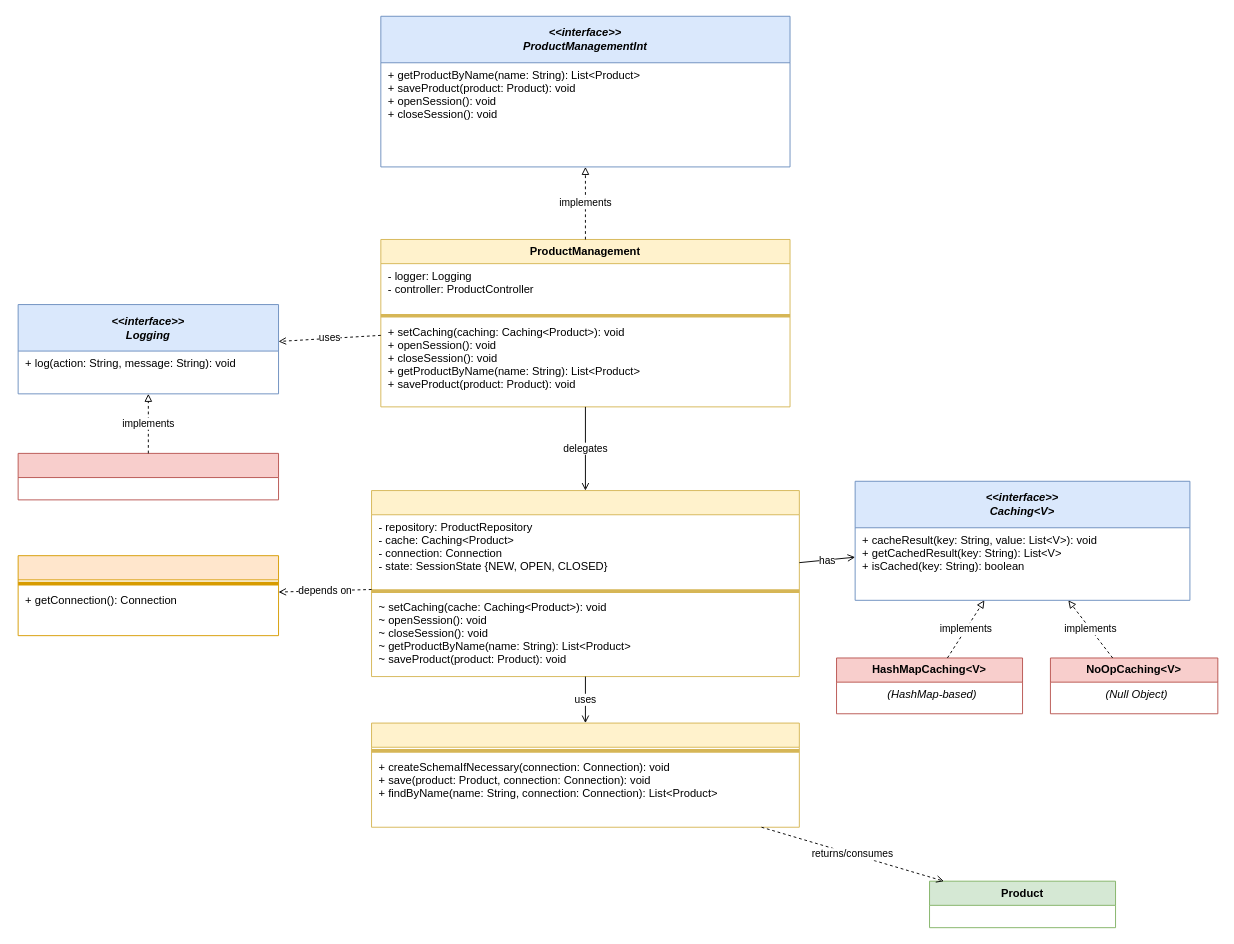
Some shapes in this 1234 by 944 pixel diagram are drawn without their labels. Each missing label, with the box of its shape:
DatabaseConnection: (17, 555, 279, 636)
Logger: (17, 452, 279, 500)
ProductController: (371, 490, 799, 677)
ProductRepository: (371, 722, 799, 827)
